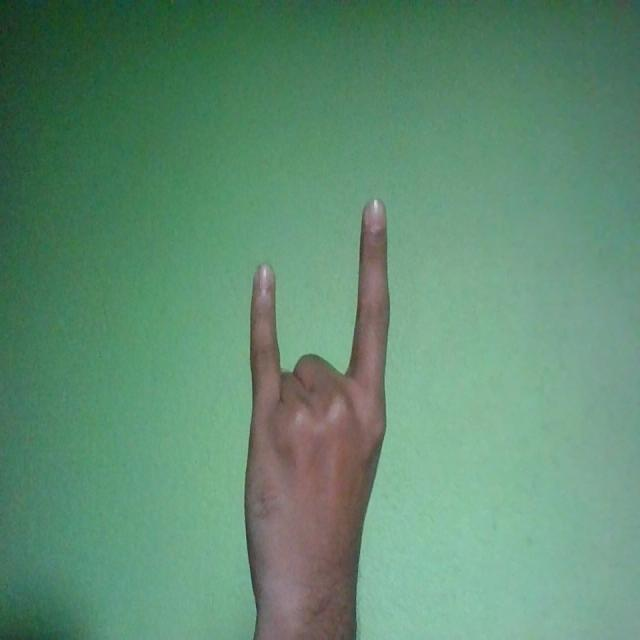open Plam: (245, 200, 389, 632)
